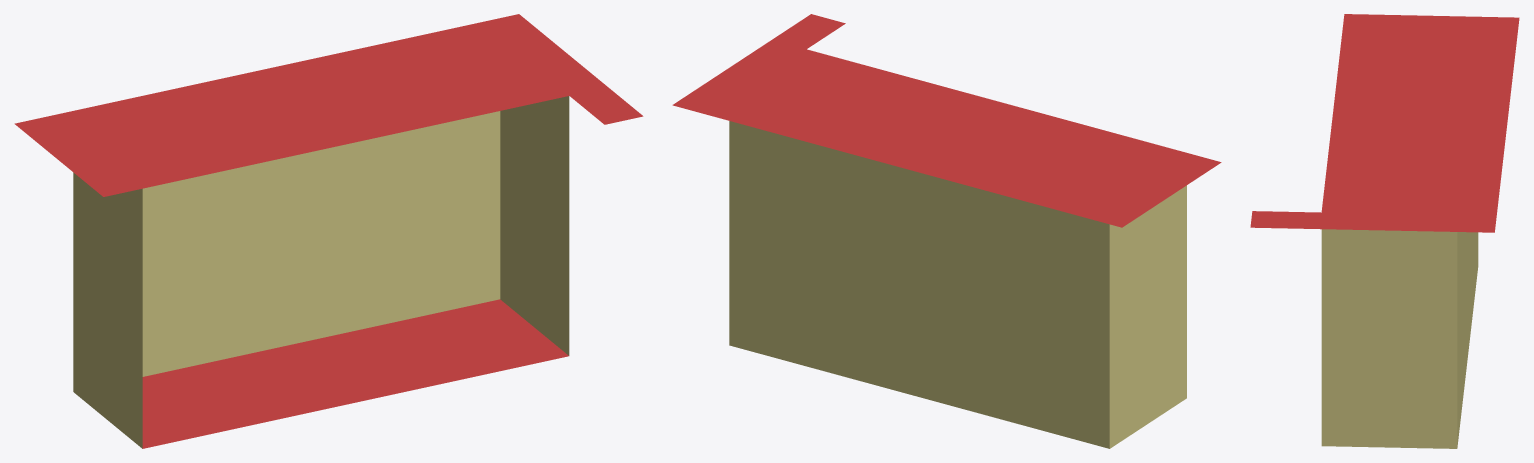
The picture shows the model from 3 angles, left to right: view 1: azimuth 30°, elevation 25°; view 2: azimuth 150°, elevation 25°; view 3: azimuth 270°, elevation 25°; orthographic projection. The views are drawn at different scales.
Bounding box in the file's own units: 9.84 × 5.12 × 4.9.
